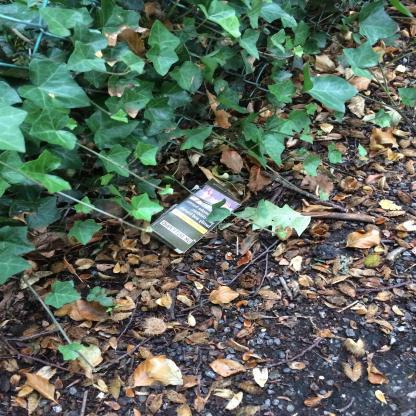karton: (151, 179, 245, 255)
